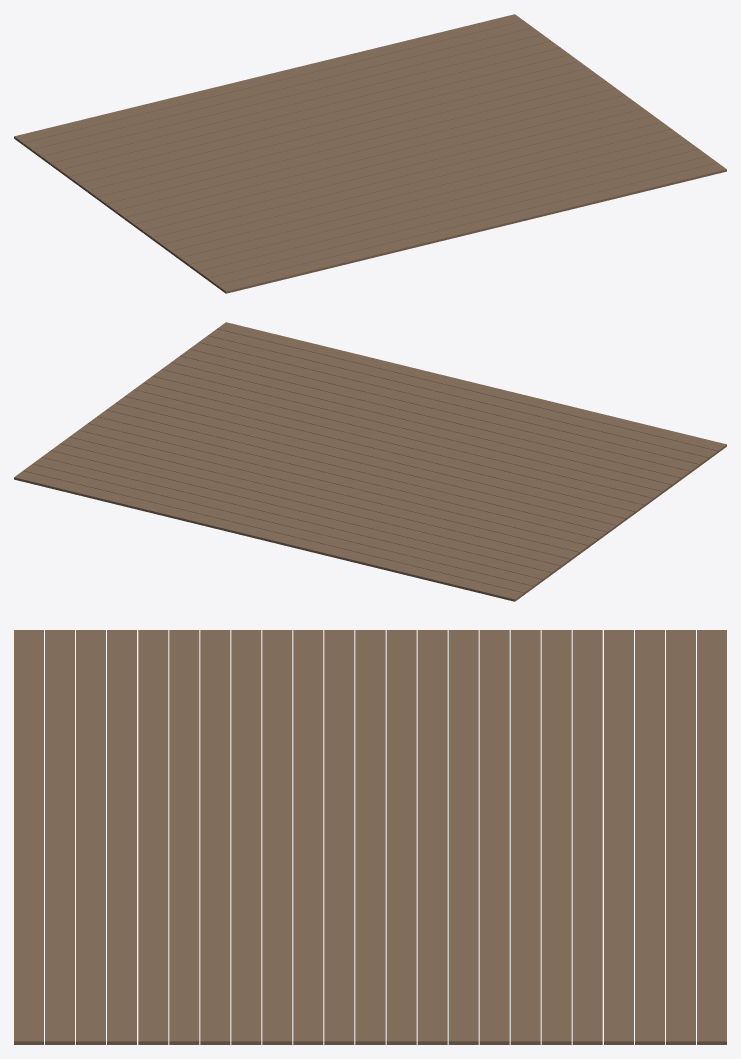
File: Garage_Ceiling.glb
3 renders of one model, top to bottom at view 1: azimuth 30°, elevation 25°; view 2: azimuth 150°, elevation 25°; view 3: azimuth 270°, elevation 25°, orthographic. The views are drawn at different scales.
Visible parts, largest first — view 1: Garage_Ceiling; view 2: Garage_Ceiling; view 3: Garage_Ceiling.
Boxes of the visible parts, bbox=[...] form: Garage_Ceiling: bbox=[14, 14, 726, 293]; Garage_Ceiling: bbox=[14, 322, 726, 601]; Garage_Ceiling: bbox=[14, 630, 726, 1044].
Bounding box in the file's own units: 9.4 × 0.04 × 6.89.
